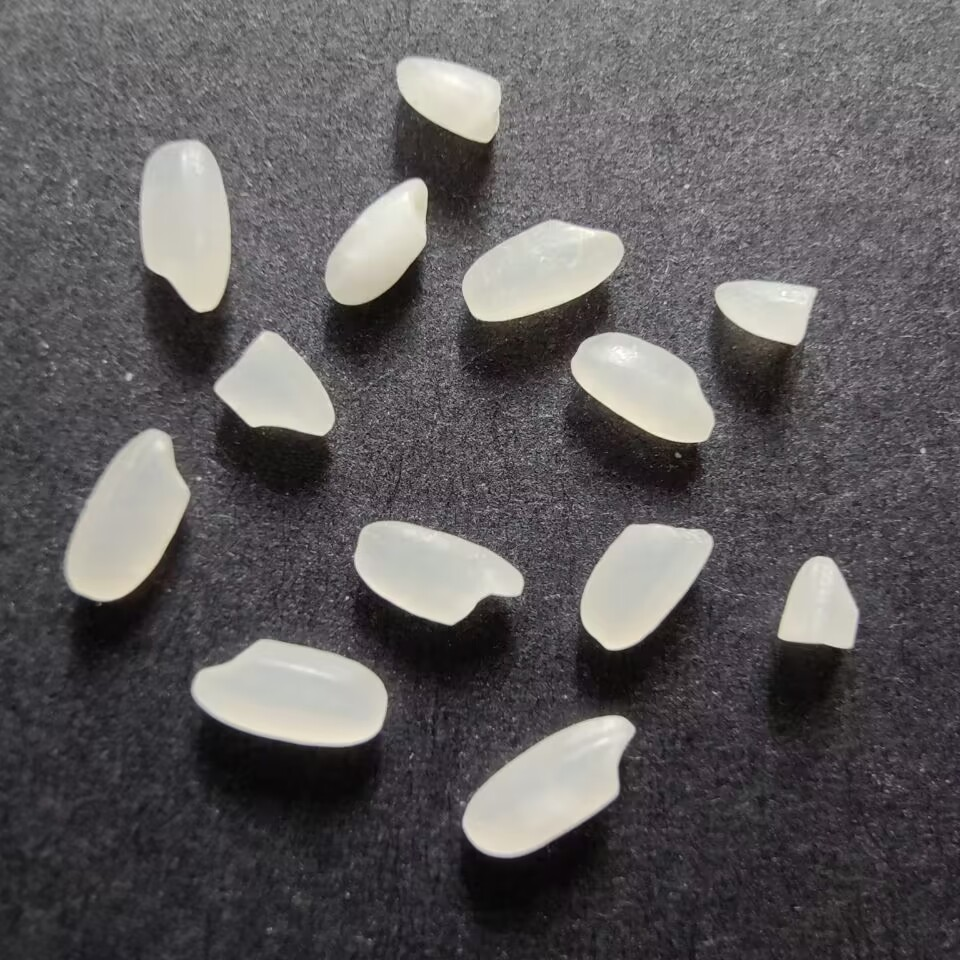broken: (210, 326, 337, 440), (390, 51, 506, 152), (772, 553, 866, 656), (709, 273, 821, 348)
rice: (463, 712, 637, 860), (181, 637, 392, 752), (59, 428, 194, 607), (574, 518, 717, 656), (351, 516, 528, 626), (458, 213, 628, 326), (132, 134, 232, 313), (566, 330, 717, 445), (319, 175, 435, 307)
